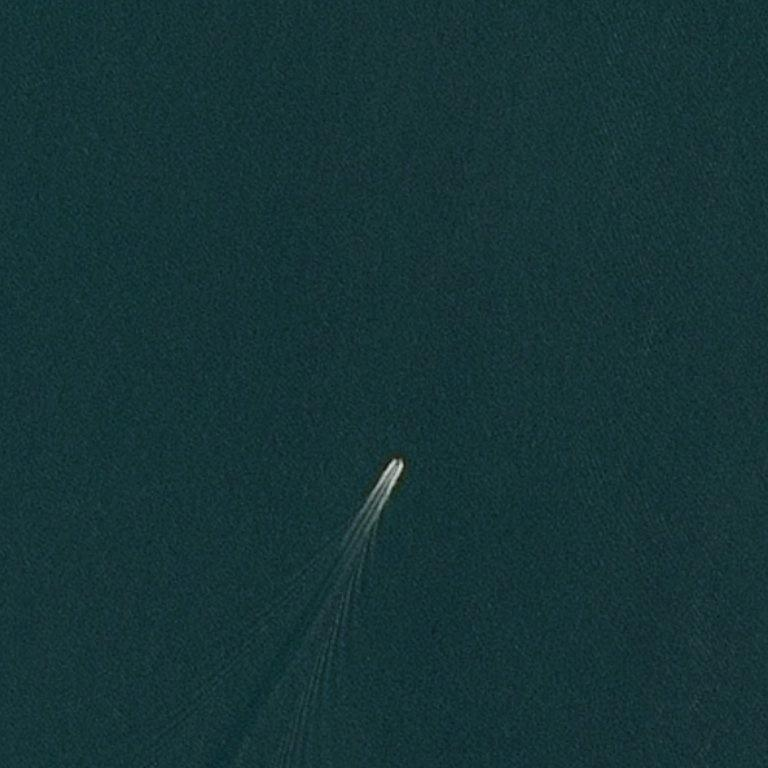ship: (7, 460, 20, 473)
